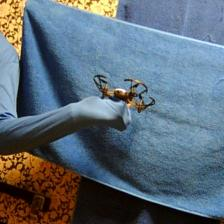drone: (91, 74, 157, 113)
